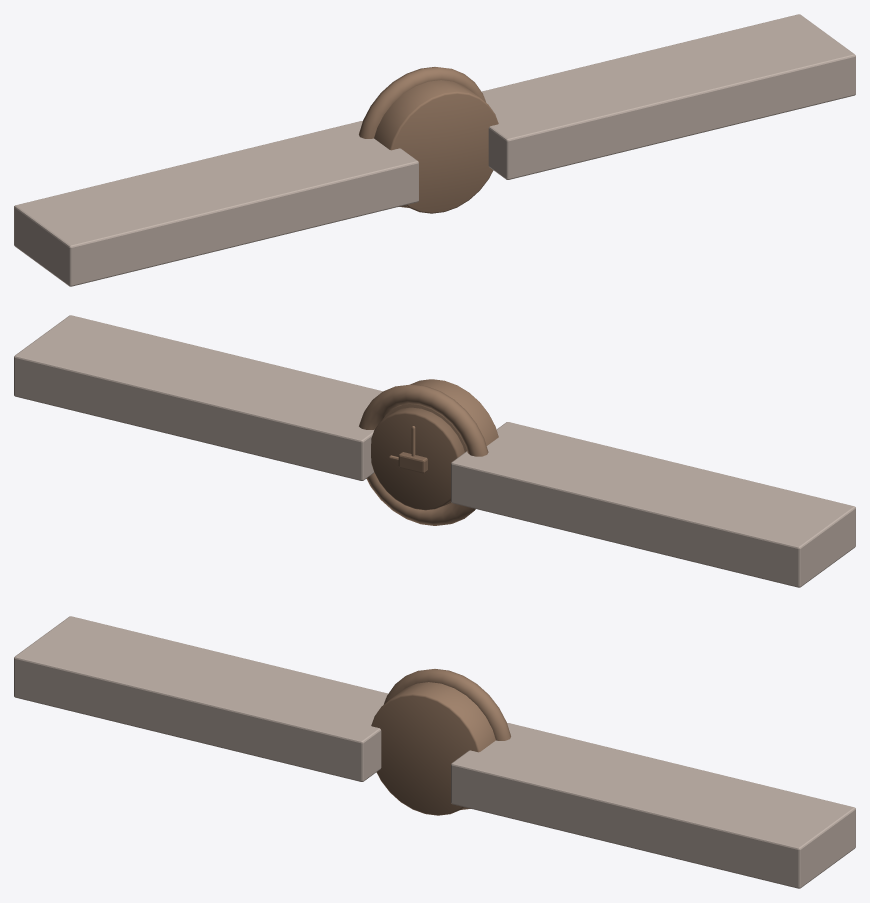
The model's file is VM-ACC-EXT93.glb.
3 renders of one model, top to bottom at view 1: azimuth 30°, elevation 25°; view 2: azimuth 150°, elevation 25°; view 3: azimuth 330°, elevation 25°, orthographic.
Parts seen in each view (by area): view 1: Reloj Correa Cuero Marrón; view 2: Reloj Correa Cuero Marrón; view 3: Reloj Correa Cuero Marrón.
Boxes of the visible parts, x1,y1,x2,y2 form: Reloj Correa Cuero Marrón: (14,14,855,286); Reloj Correa Cuero Marrón: (14,315,855,587); Reloj Correa Cuero Marrón: (14,616,855,888).
Bounding box in the file's own units: 0.3929 × 0.0655 × 0.0491.
